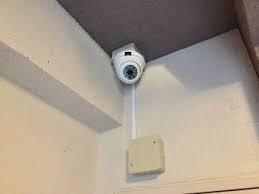maru: (103, 49, 155, 89)
